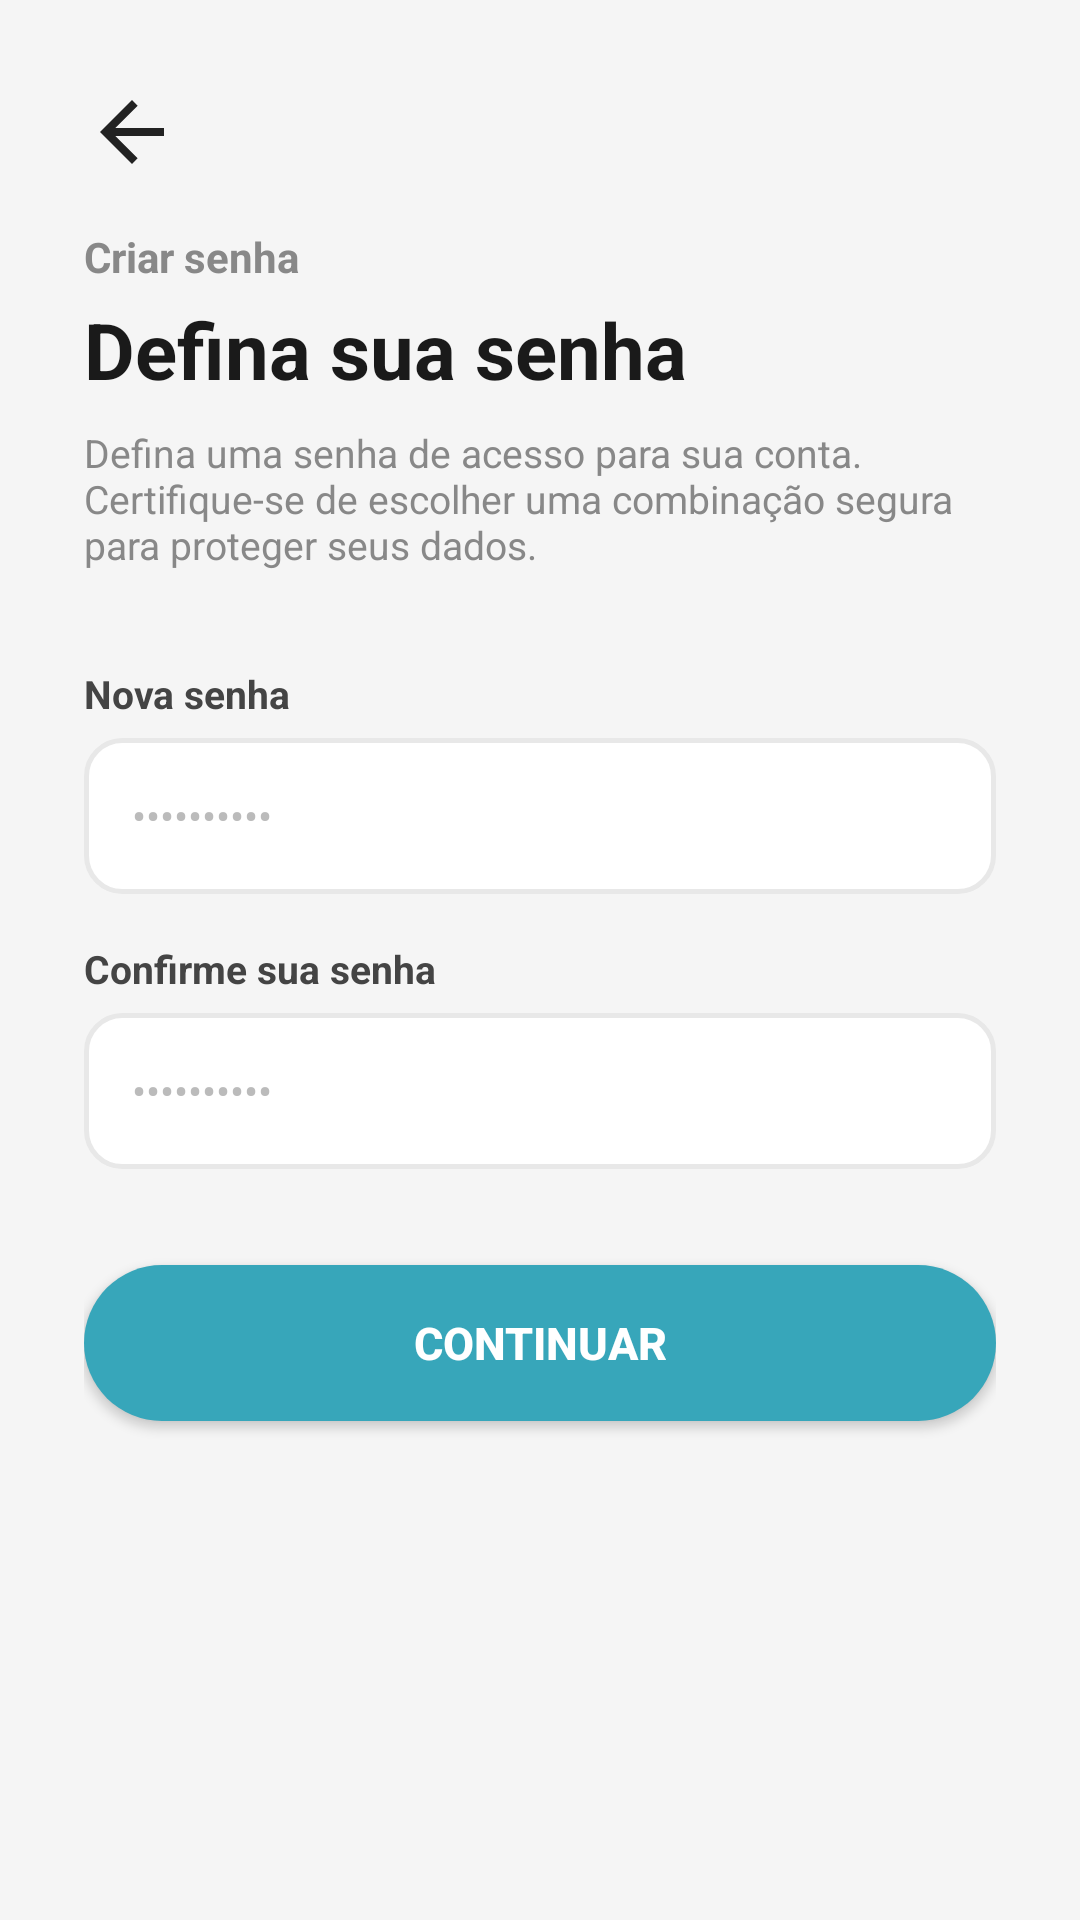

Named icons in this screenshot (1080*1920) and their centers, point (x, y):
arrow back: point (132, 132)
